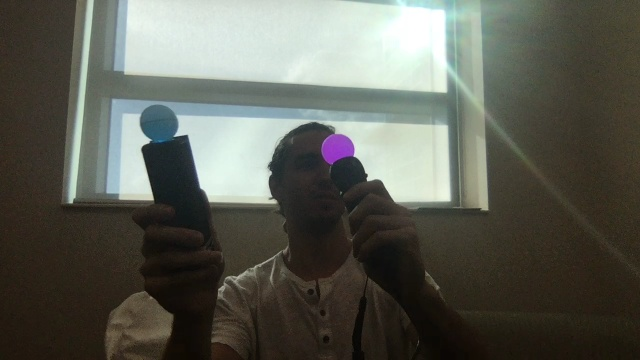wand: (142, 105, 178, 141), (323, 135, 355, 164)
